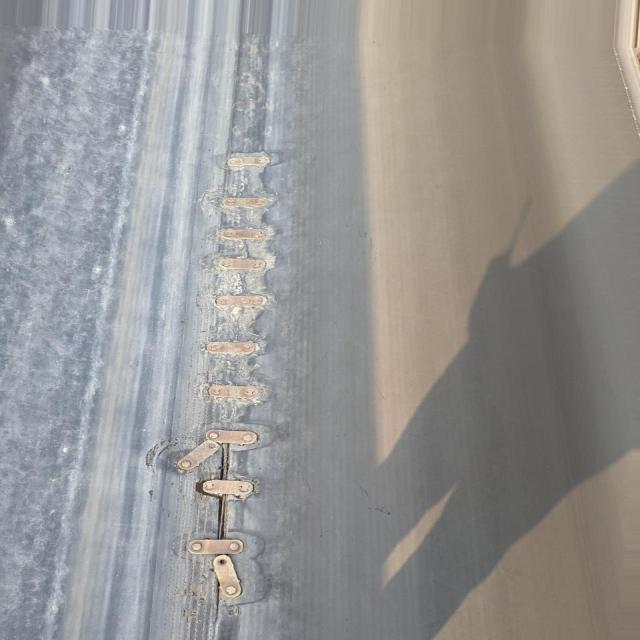patch work: (144, 128, 292, 640)
